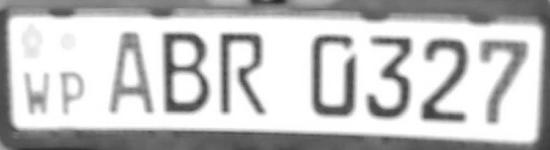0: (308, 25, 361, 122)
2: (420, 28, 472, 132)
3: (364, 28, 418, 126)
7: (475, 32, 534, 132)
A: (105, 26, 160, 118)
B: (161, 25, 211, 121)
P: (57, 67, 89, 118)
R: (212, 25, 272, 122)
W: (20, 67, 54, 118)
